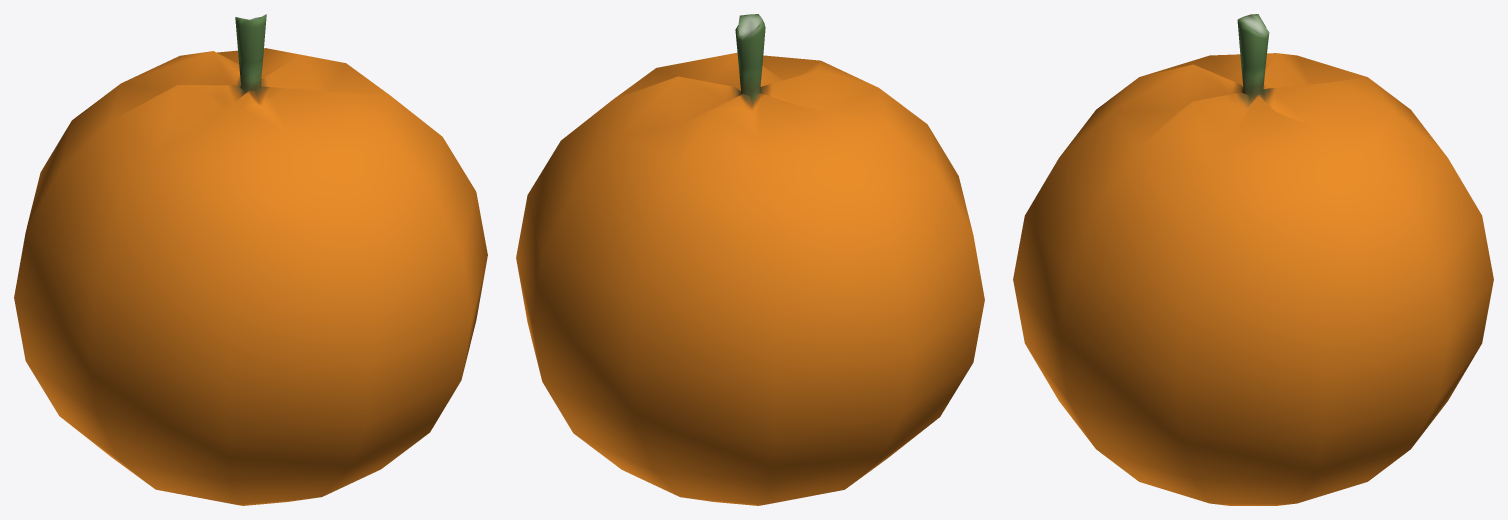
Rendered from oranges.glb.
3 renders of one model, left to right at view 1: azimuth 30°, elevation 25°; view 2: azimuth 150°, elevation 25°; view 3: azimuth 270°, elevation 25°, orthographic.
Parts seen in each view (by area): view 1: orange.001; view 2: orange.001; view 3: orange.001.
Boxes of the visible parts, <box> form: orange.001: <box>14,14,487,505</box>; orange.001: <box>516,14,984,505</box>; orange.001: <box>1013,14,1493,505</box>.
Bounding box in the file's own units: 0.7449 × 0.8385 × 0.7833.
1 material, 1 textured.
